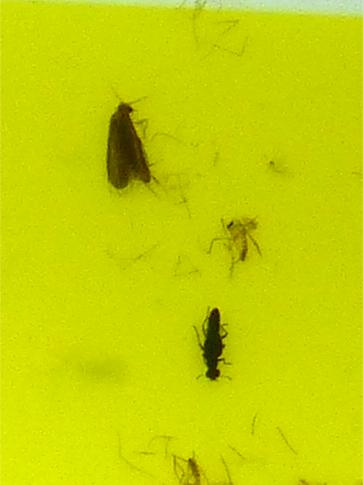Hymenoptera: (191, 303, 232, 385)
Nematocera: (218, 215, 263, 274)
Trichoptera: (100, 100, 172, 199)
